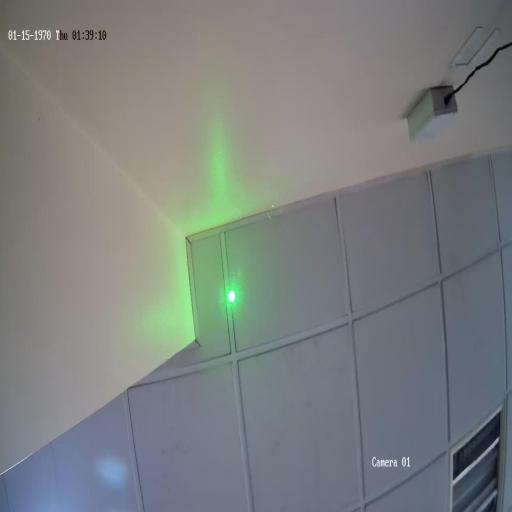laser: (226, 285, 240, 308)
